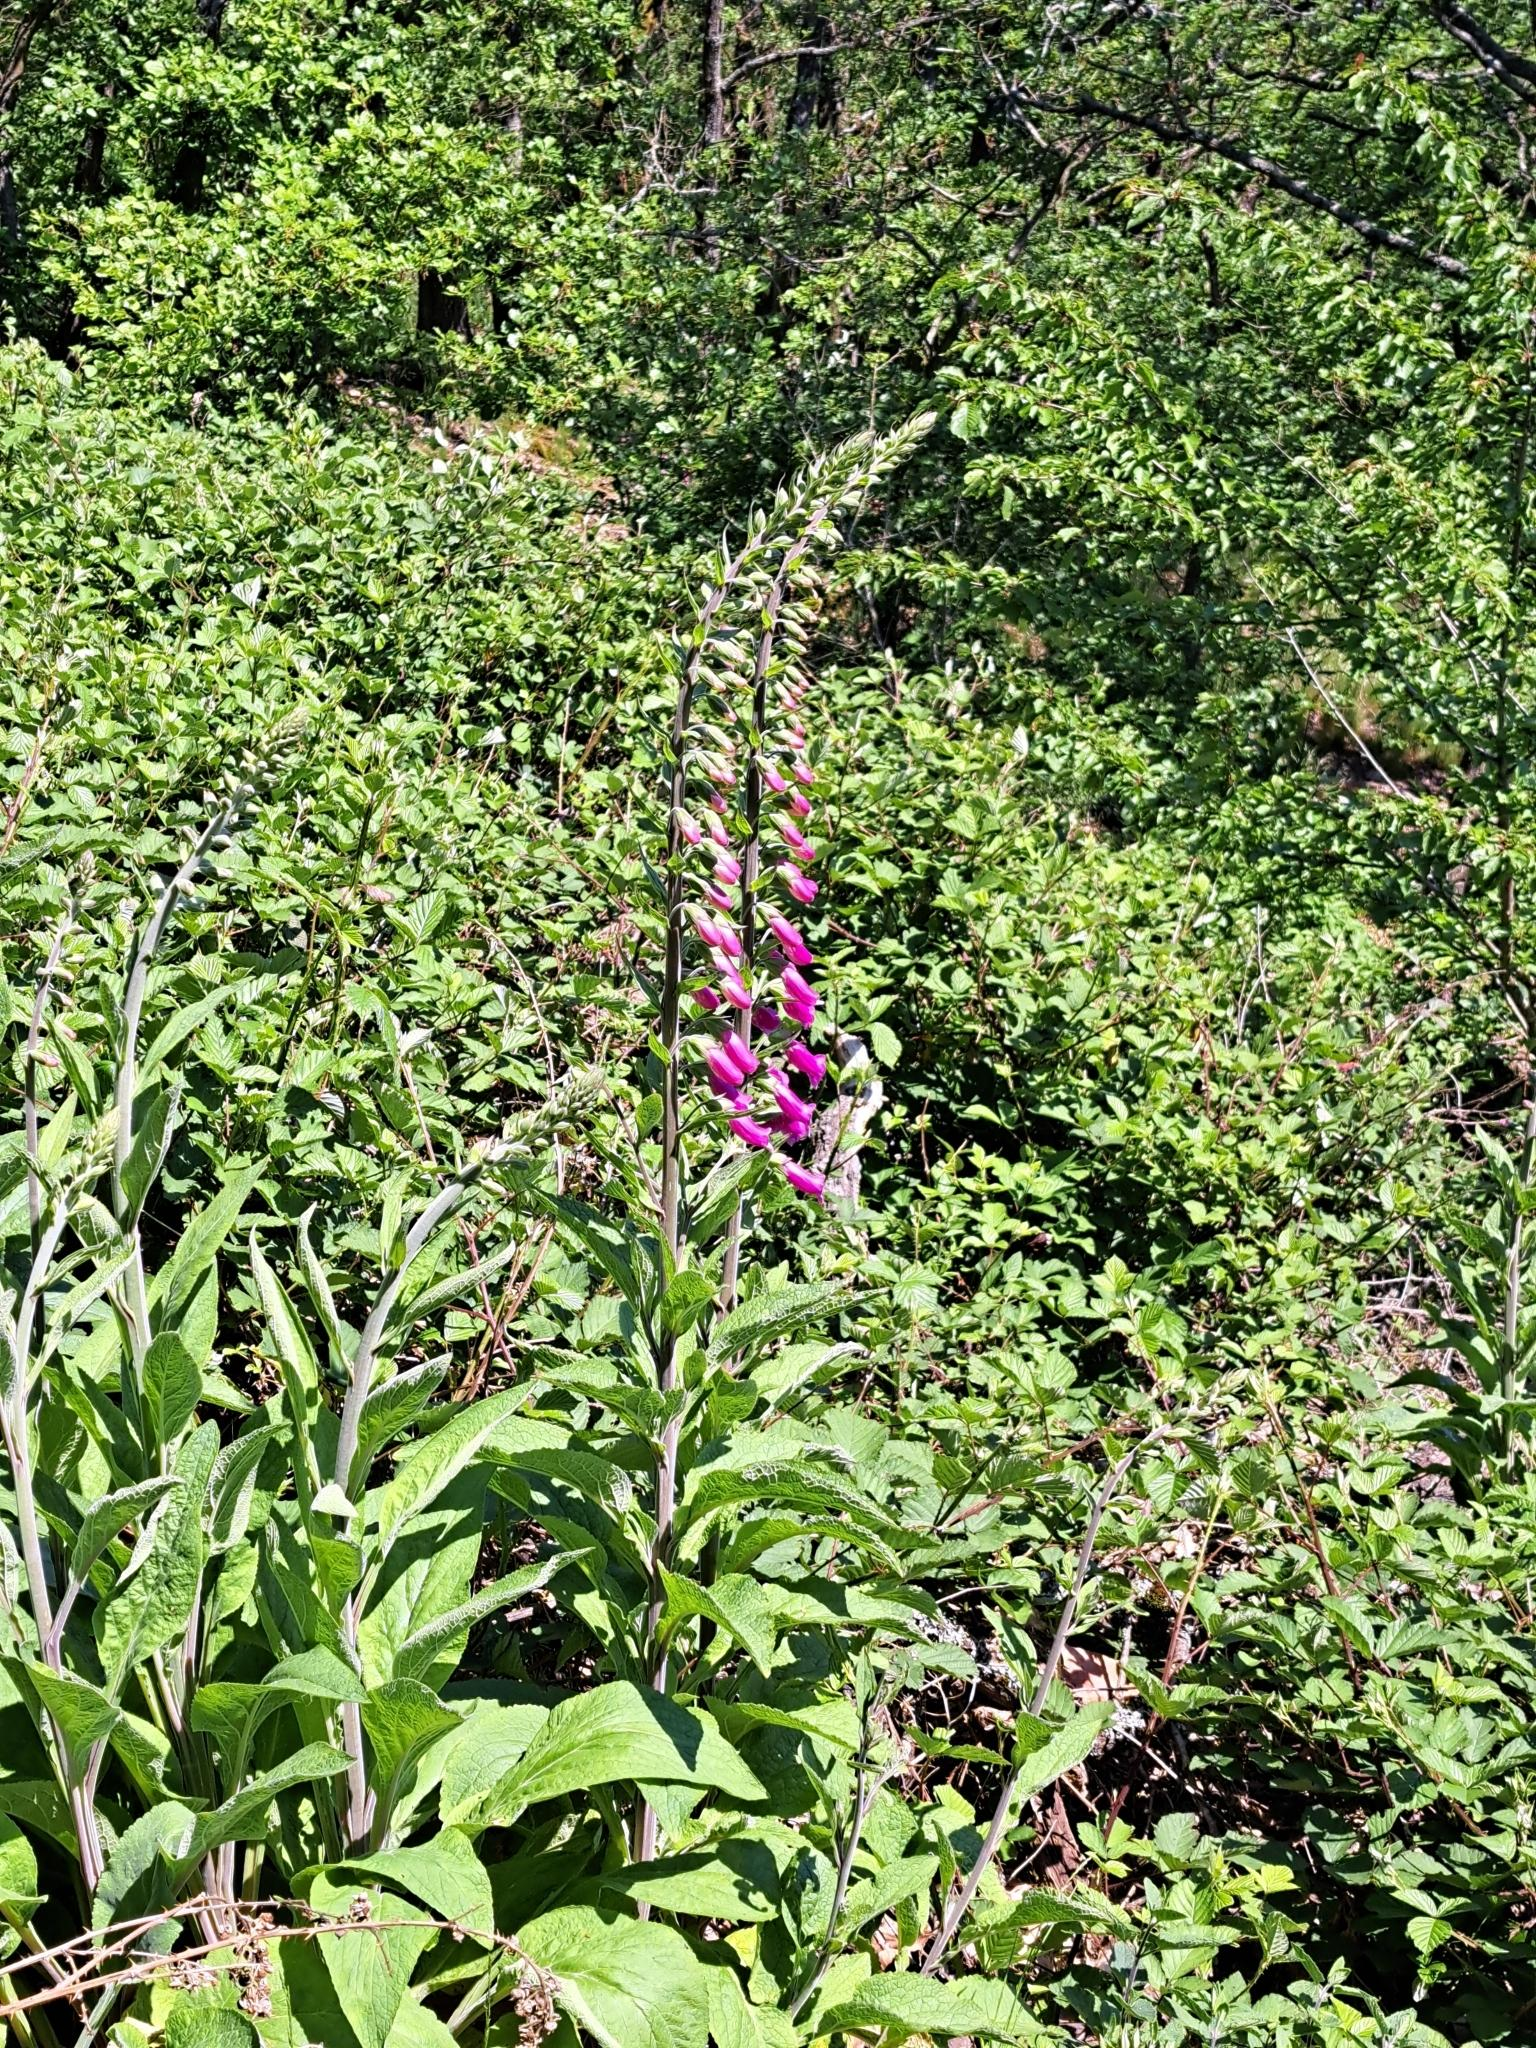Digitalis L: (536, 410, 957, 1682), (3, 724, 307, 1892), (232, 1089, 607, 2033)
